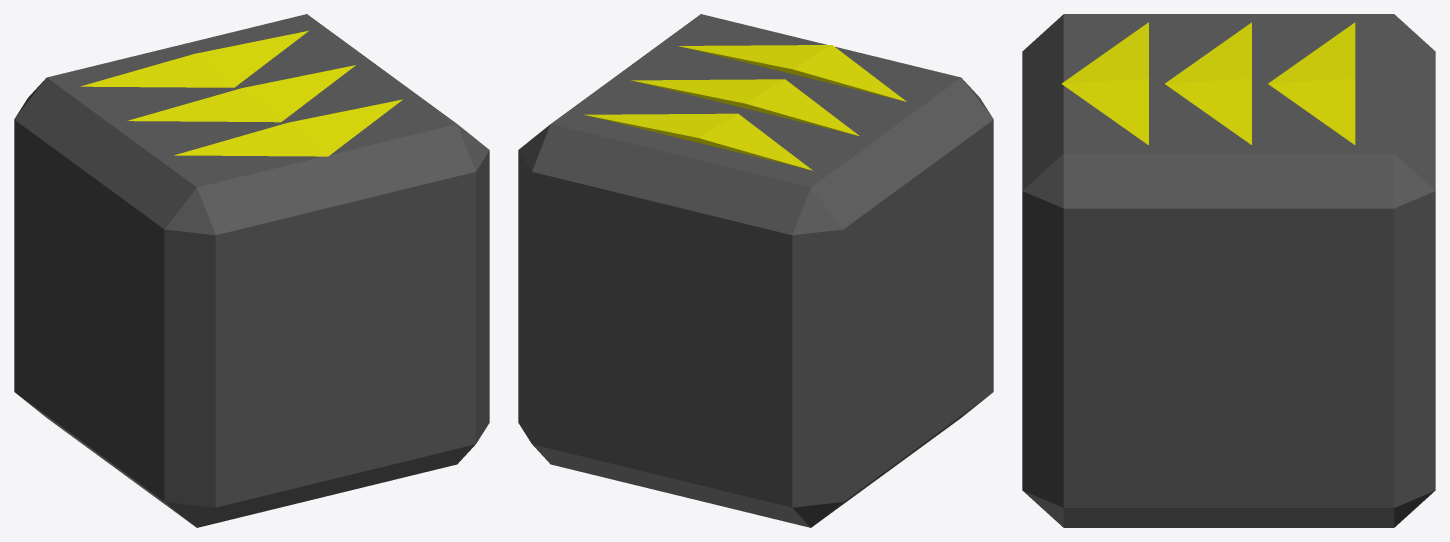
Rendered from Block_Converyor.fbx.
3 views of the same model, side by side, from view 1: azimuth 30°, elevation 25°; view 2: azimuth 150°, elevation 25°; view 3: azimuth 270°, elevation 25° (orthographic). The views are drawn at different scales.
Parts seen in each view (by area): view 1: pCube2, pPyramid2, pPyramid1, pPyramid3; view 2: pCube2, pPyramid3, pPyramid2, pPyramid1; view 3: pCube2, pPyramid3, pPyramid1, pPyramid2.
Part boxes in pixels (x1,y1,x2,y2): pCube2: (14,14,489,527); pPyramid2: (127,65,355,122); pPyramid1: (175,99,402,156); pPyramid3: (80,30,308,87); pCube2: (518,14,993,527); pPyramid3: (584,113,812,170); pPyramid2: (631,79,859,136); pPyramid1: (678,45,906,101); pCube2: (1022,14,1435,527); pPyramid3: (1268,22,1355,144); pPyramid1: (1061,22,1148,145); pPyramid2: (1165,22,1251,144).
Size of the model in its own units: 1 by 1.01 by 1.
